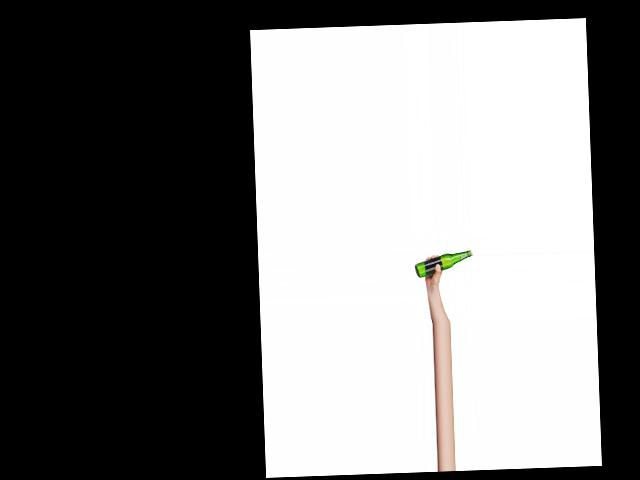beer: (413, 250, 473, 278)
